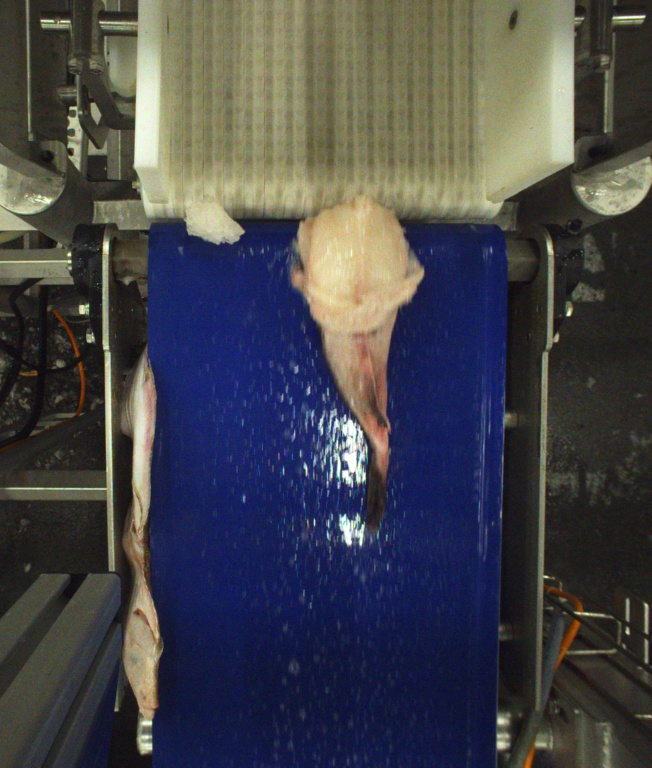ANF: (294, 195, 425, 530)
